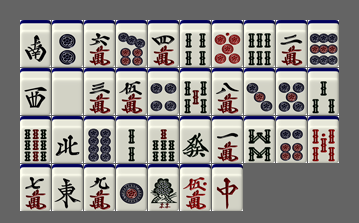0m: (180, 164, 211, 211)
0p: (212, 20, 243, 67)
0s: (308, 116, 339, 163)
1m: (212, 116, 243, 163)
1p: (116, 164, 147, 211)
1s: (148, 164, 179, 211)
1z: (52, 164, 83, 211)
2m: (276, 20, 307, 67)
2p: (52, 20, 83, 67)
2s: (116, 116, 147, 163)
2z: (20, 20, 51, 67)
3m: (84, 68, 115, 115)
3p: (244, 68, 275, 115)
3s: (308, 68, 339, 115)
3z: (20, 68, 51, 115)
4m: (148, 20, 179, 67)
4p: (148, 68, 179, 115)
4s: (180, 20, 211, 67)
4z: (52, 116, 83, 163)
5m: (116, 68, 147, 115)
5p: (276, 68, 307, 115)
5s: (180, 68, 211, 115)
5z: (52, 68, 83, 115)
6m: (84, 20, 115, 67)
6p: (276, 116, 307, 163)
6s: (244, 20, 275, 67)
6z: (180, 116, 211, 163)
7m: (20, 164, 51, 211)
7p: (116, 20, 147, 67)
7s: (148, 116, 179, 163)
7z: (212, 164, 243, 211)
8m: (212, 68, 243, 115)
8p: (84, 116, 115, 163)
8s: (244, 116, 275, 163)
9m: (84, 164, 115, 211)
9p: (308, 20, 339, 67)
9s: (20, 116, 51, 163)
